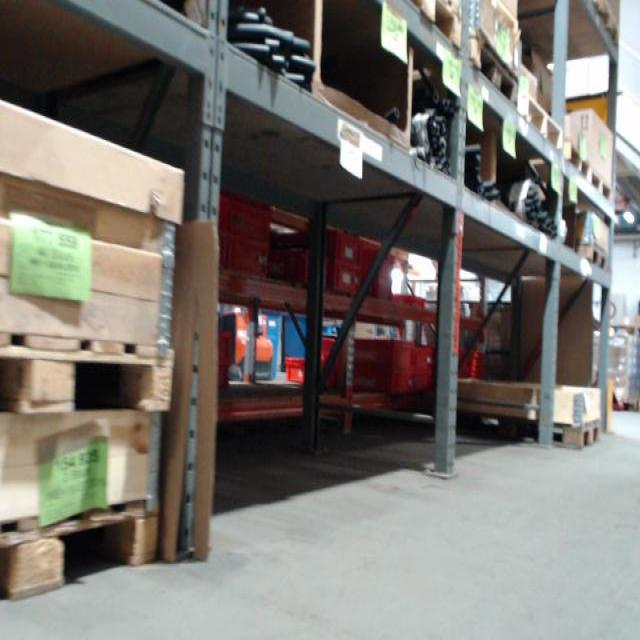pallet: (0, 501, 161, 605), (1, 331, 178, 414), (466, 30, 520, 107), (484, 420, 604, 451), (517, 91, 564, 156), (400, 1, 462, 49), (564, 137, 591, 187), (588, 171, 614, 208)
small_load_carrier: (275, 224, 360, 262), (346, 334, 413, 371), (297, 261, 360, 298), (281, 353, 337, 389), (225, 237, 272, 278), (230, 205, 274, 243), (457, 352, 487, 380), (392, 293, 428, 313), (219, 332, 236, 364), (218, 363, 230, 402)
